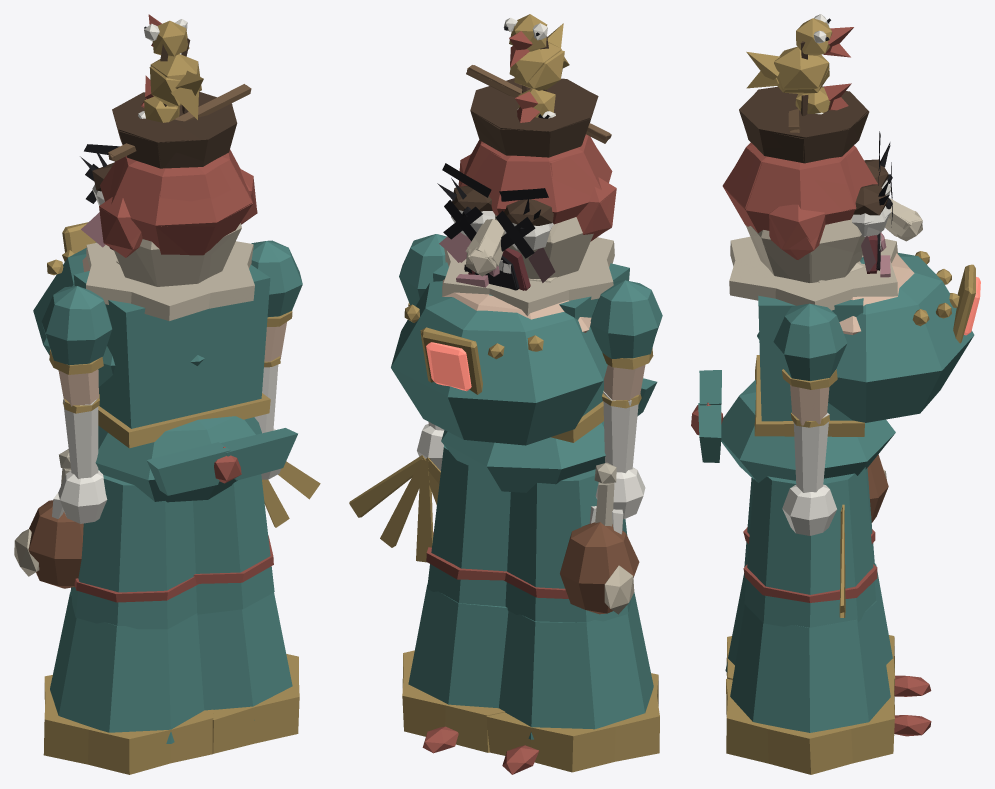
File: opera.glb
3 views of the same model, side by side, from view 1: azimuth 30°, elevation 25°; view 2: azimuth 150°, elevation 25°; view 3: azimuth 270°, elevation 25° (orthographic).
Visible parts, largest first — view 1: chest, shin_l, head, thigh_l, head_ko, shin_r, pelvis, thigh_r, forearm_l, upper_arm_l, upper_arm_r, forearm_r; view 2: chest, shin_l, head, head_ko, shin_r, forearm_l, thigh_l, thigh_r, pelvis, upper_arm_l, forearm_r, upper_arm_r; view 3: chest, shin_r, head, head_ko, thigh_r, pelvis, upper_arm_r, forearm_r, shin_l, forearm_l, thigh_l.
Boxes of the visible parts, x1,y1,x2,y2 form: chest: (33, 222, 270, 448); shin_l: (43, 592, 213, 774); head: (80, 14, 257, 286); thigh_l: (70, 469, 198, 629); head_ko: (84, 38, 256, 286); shin_r: (197, 592, 299, 753); pelvis: (95, 416, 297, 502); thigh_r: (193, 474, 274, 614); forearm_l: (14, 394, 107, 588); upper_arm_l: (41, 286, 112, 406); upper_arm_r: (251, 240, 302, 361); forearm_r: (254, 356, 320, 527); chest: (391, 237, 629, 445); shin_l: (486, 592, 659, 774); head: (437, 14, 616, 290); head_ko: (440, 36, 611, 290); shin_r: (402, 584, 508, 753); forearm_l: (560, 390, 645, 614); thigh_l: (504, 469, 631, 622); thigh_r: (426, 445, 510, 606); pelvis: (441, 378, 657, 492); upper_arm_l: (590, 280, 662, 400); forearm_r: (349, 421, 444, 562); upper_arm_r: (399, 234, 446, 306); chest: (729, 236, 980, 436); shin_r: (726, 601, 931, 774); head: (722, 14, 922, 282); head_ko: (726, 41, 922, 282); thigh_r: (743, 467, 877, 627); pelvis: (691, 370, 895, 482); upper_arm_r: (773, 303, 847, 425); forearm_r: (782, 412, 845, 617); shin_l: (725, 563, 931, 696); forearm_l: (867, 454, 888, 522); thigh_l: (743, 468, 875, 566).
Bounding box in the file's own units: 1.04 × 2.39 × 0.9004.
